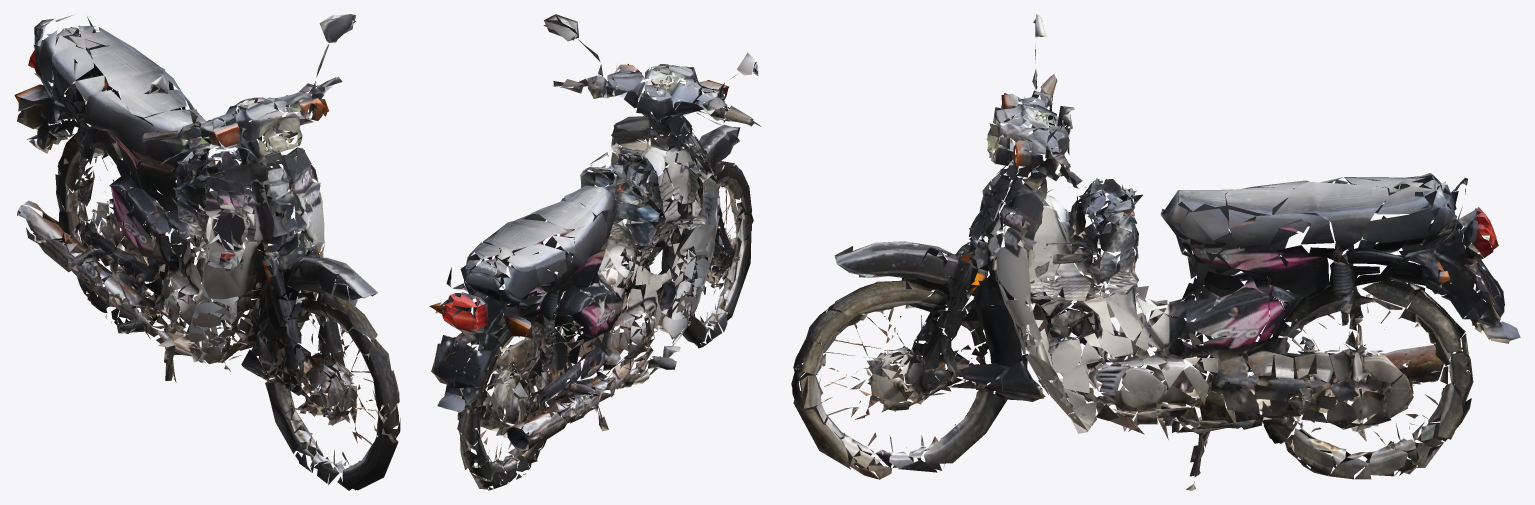
File: scooter_cub.glb
3 views of the same model, side by side, from view 1: azimuth 30°, elevation 25°; view 2: azimuth 150°, elevation 25°; view 3: azimuth 270°, elevation 25° (orthographic). The views are drawn at different scales.
Visible parts, largest first — view 1: Object_3; view 2: Object_3; view 3: Object_3.
Part boxes in pixels (x1,y1,x2,y2): Object_3: (14, 14, 400, 490); Object_3: (429, 14, 761, 490); Object_3: (791, 14, 1520, 490).
Bounding box in the file's own units: 0.6792 × 1.11 × 1.8.
1 material, 1 textured.
